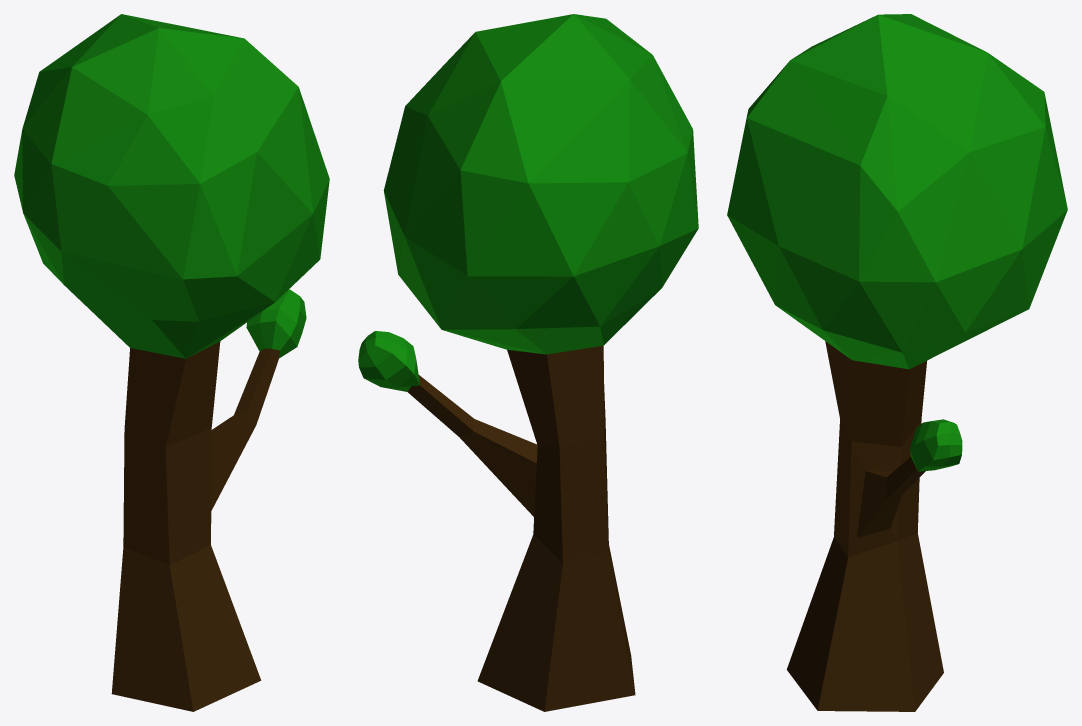
The model's file is Arbre2.fbx.
The picture shows the model from 3 angles, left to right: view 1: azimuth 30°, elevation 25°; view 2: azimuth 150°, elevation 25°; view 3: azimuth 270°, elevation 25°; orthographic projection. The views are drawn at different scales.
Parts seen in each view (by area): view 1: Arbre2; view 2: Arbre2; view 3: Arbre2.
Part boxes in pixels (box(x1,y1,x2,y2)): Arbre2: box(14, 14, 329, 711); Arbre2: box(358, 14, 698, 711); Arbre2: box(727, 14, 1067, 711).
Size of the model in its own units: 231 by 503 by 235.
